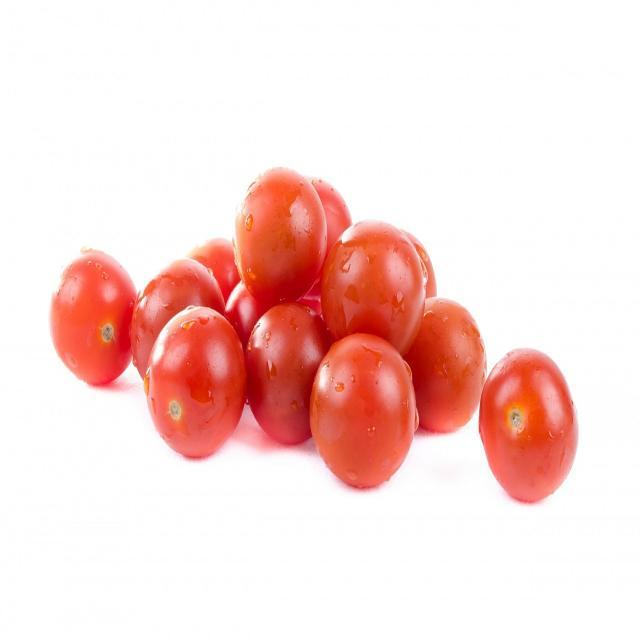tomato: (144, 307, 254, 468), (312, 345, 424, 499), (482, 341, 574, 504), (323, 216, 425, 353), (50, 241, 136, 399), (406, 281, 486, 445), (138, 252, 226, 398), (229, 169, 325, 297), (242, 299, 326, 441)
